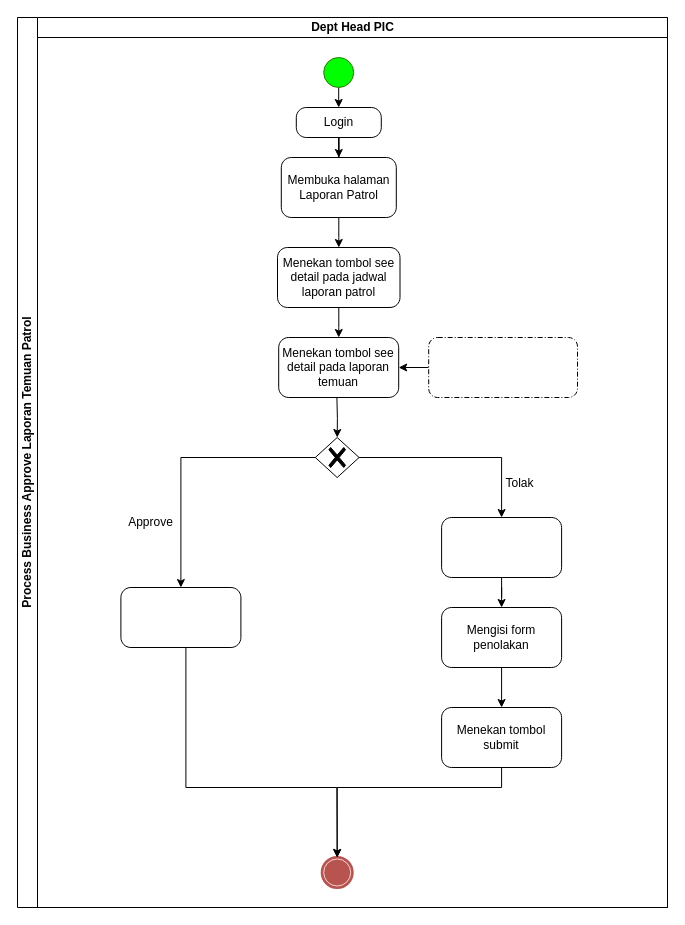
Some shapes in this 685 by 925 pixel diagram are drawn without their labels. Here are the shapes that lost their labels. From the top down, the centre of each, then its label:
point 503,367: Temuan harus memiliki indikator proses lingkaran penuh berwarna kuning
point 336,457: Approve Laporan?
point 501,547: Menekan tombol Tolak
point 180,617: Menekan tombol Verifikasi
